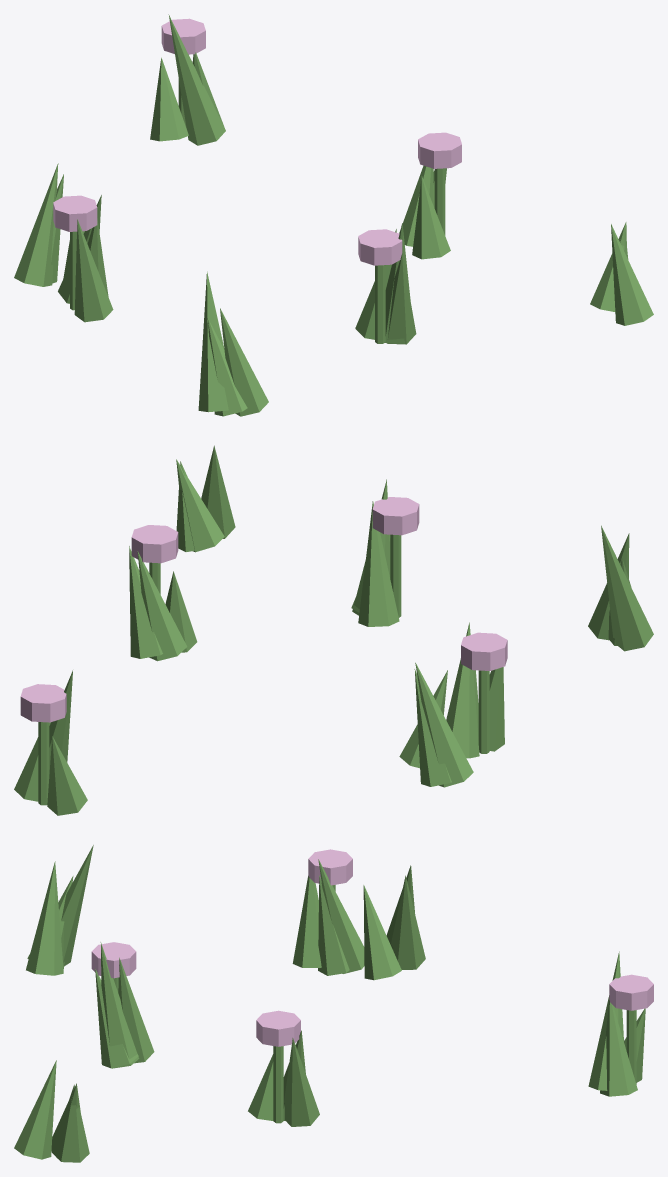
File: grass_tufts.glb
The picture shows the model from 3 angles, top to bottom: view 1: azimuth 30°, elevation 25°; view 2: azimuth 150°, elevation 25°; view 3: azimuth 270°, elevation 25°; orthographic projection. The views are drawn at different scales.
Parts seen in each view (by area): view 1: Tuft_6_1, Tuft_3_0, Tuft_4_1, Tuft_1_2, Tuft_5_2, Tuft_5_1, Tuft_2_0, Tuft_6_0, Tuft_0_1, Flower_2, Flower_0, Flower_4 (+9 smaller); view 2: Tuft_5_2, Tuft_0_0, Tuft_3_0, Tuft_4_2, Tuft_2_2, Tuft_2_1, Tuft_6_0, Tuft_1_1, Flower_0, Flower_4, Flower_2, Flower_6 (+13 smaller); view 3: Tuft_5_1, Tuft_1_2, Tuft_3_2, Tuft_6_2, Tuft_2_1, Tuft_3_1, Tuft_4_2, Tuft_4_1, Tuft_0_2, Tuft_1_0, Tuft_4_0, Tuft_5_2 (+11 smaller).
Boxes of the visible parts, x1,y1,x2,y2 form: Tuft_6_1: (168, 14, 225, 145); Tuft_3_0: (14, 163, 58, 286); Tuft_4_1: (74, 219, 113, 322); Tuft_1_2: (611, 224, 653, 325); Tuft_5_2: (198, 271, 228, 412); Tuft_5_1: (220, 308, 268, 416); Tuft_2_0: (412, 176, 450, 259); Tuft_6_0: (150, 57, 188, 141); Tuft_0_1: (387, 254, 416, 344); Flower_2: (418, 132, 461, 168); Flower_0: (358, 229, 402, 265); Flower_4: (53, 195, 97, 231); Tuft_5_2: (601, 525, 653, 651); Tuft_0_0: (358, 501, 399, 626); Tuft_3_0: (415, 662, 473, 787); Tuft_4_2: (446, 622, 479, 758); Tuft_2_2: (137, 551, 187, 661); Tuft_2_1: (129, 546, 162, 658); Tuft_6_0: (47, 736, 87, 815); Tuft_1_1: (176, 459, 224, 552); Flower_0: (372, 497, 419, 535); Flower_4: (461, 632, 507, 670); Flower_2: (131, 525, 178, 563); Flower_6: (20, 684, 66, 722); Tuft_5_1: (26, 861, 63, 975); Tuft_1_2: (14, 1060, 56, 1159); Tuft_3_2: (363, 885, 401, 980); Tuft_6_2: (600, 1000, 637, 1096); Tuft_2_1: (284, 1038, 319, 1126); Tuft_3_1: (391, 875, 425, 969); Tuft_4_2: (318, 859, 364, 973); Tuft_4_1: (292, 876, 321, 967); Tuft_0_2: (100, 942, 139, 1068); Tuft_1_0: (51, 1084, 89, 1162); Tuft_4_0: (318, 875, 349, 975); Tuft_5_2: (61, 845, 93, 965).
Bounding box in the file's own units: 0.7838 × 0.2208 × 1.
